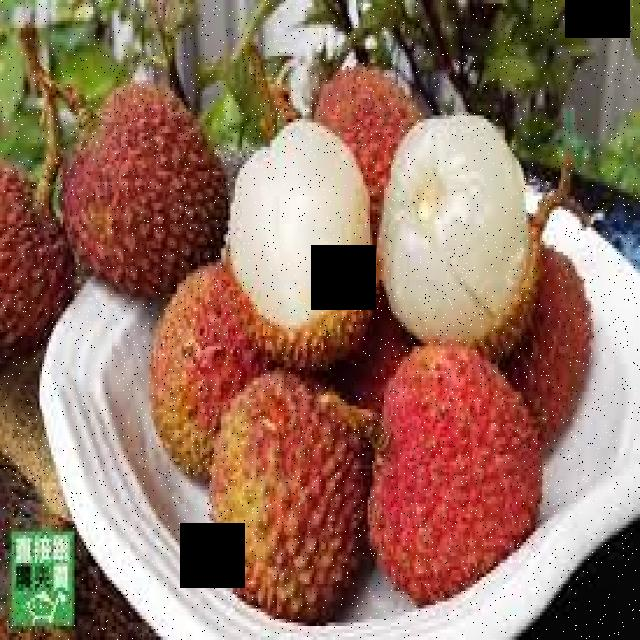lychee: (187, 117, 536, 625)
